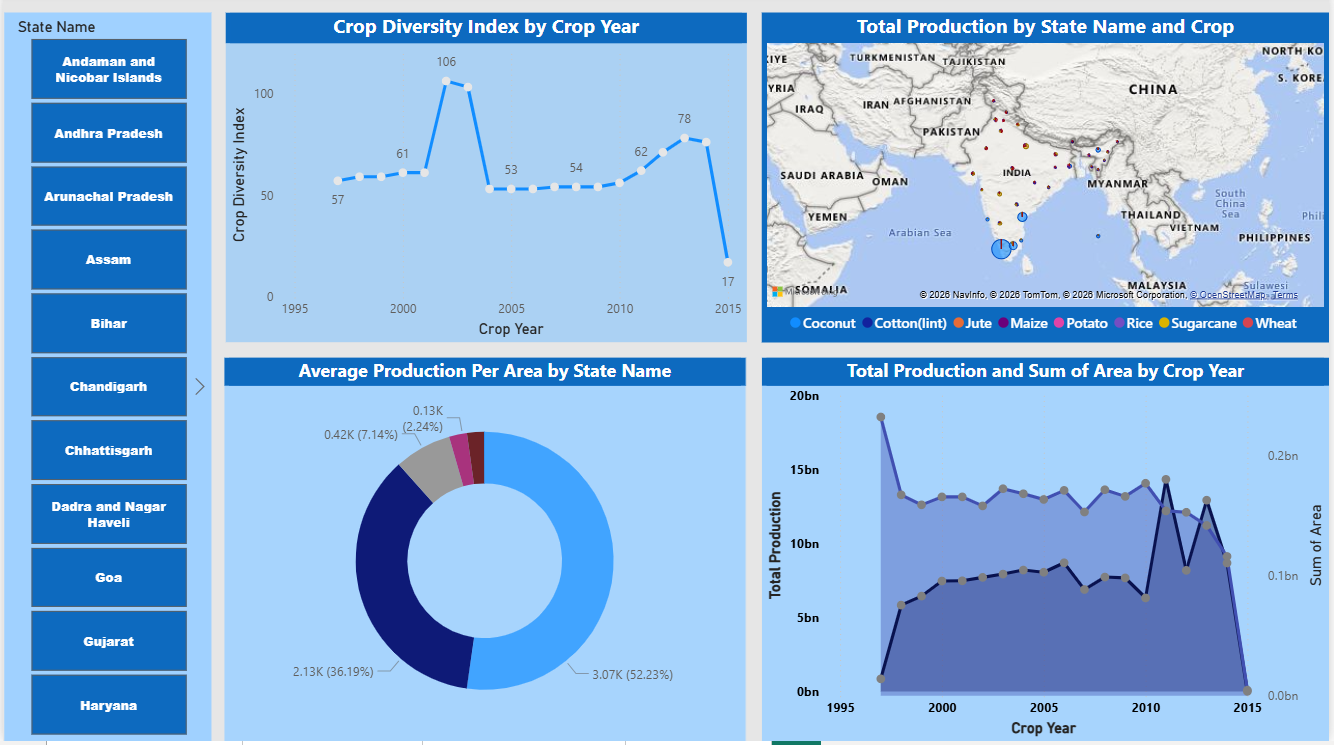

What the dashboard file says about the page in this screenshot:
{"tool":"powerbi","page":{"name":"Detailed Crop Analysis","canvas":[1280,720],"ordinal":2},"visuals":[{"type":"lineChart","fields":{"Category":["Crop Production.Crop Year"],"Y":["Crop Production.Crop Diversity Index"]},"box":[214.7,16.9,503.1,318.5],"z":0},{"type":"map","fields":{"Category":["Crop Production.State Name"],"Series":["Crop Production.Crop"],"Size":["Crop Production.Total Production"]},"box":[732.3,16.9,547.7,318.5],"z":1000},{"type":"donutChart","fields":{"Y":["Crop Production.Average Production Per Area"],"Category":["Crop Production.State Name"]},"box":[213.5,349.9,503.1,370.4],"z":2000},{"type":"areaChart","fields":{"Y":["Crop Production.Total Production"],"Y2":["Sum(Crop Production.Area)"],"Category":["Crop Production.Crop Year"]},"box":[732.3,349.9,547.7,370.4],"z":3000},{"type":"slicer","fields":{"Values":["Crop Production.State Name"]},"box":[1.3,16.6,199.7,703.4],"z":4000}]}

Visuals, with their boxes in screenshot pixels (x1, y1, x2, y2), scaled from the page's 1280x720 canvas onto the 1334x745 screenshot:
lineChart - Crop Production.Crop Year x Crop Production.Crop Diversity Index: x1=224, y1=17, x2=748, y2=347
map - Crop Production.State Name x Crop Production.Crop: x1=763, y1=17, x2=1333, y2=347
donutChart - Crop Production.Average Production Per Area x Crop Production.State Name: x1=223, y1=362, x2=747, y2=744
areaChart - Crop Production.Total Production x Sum(Crop Production.Area): x1=763, y1=362, x2=1333, y2=744
slicer - Crop Production.State Name: x1=1, y1=17, x2=209, y2=744
